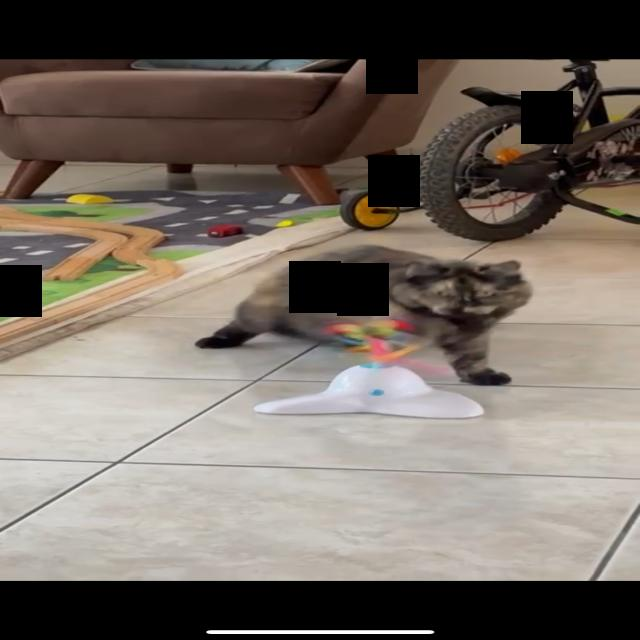authorized: (194, 244, 532, 386)
